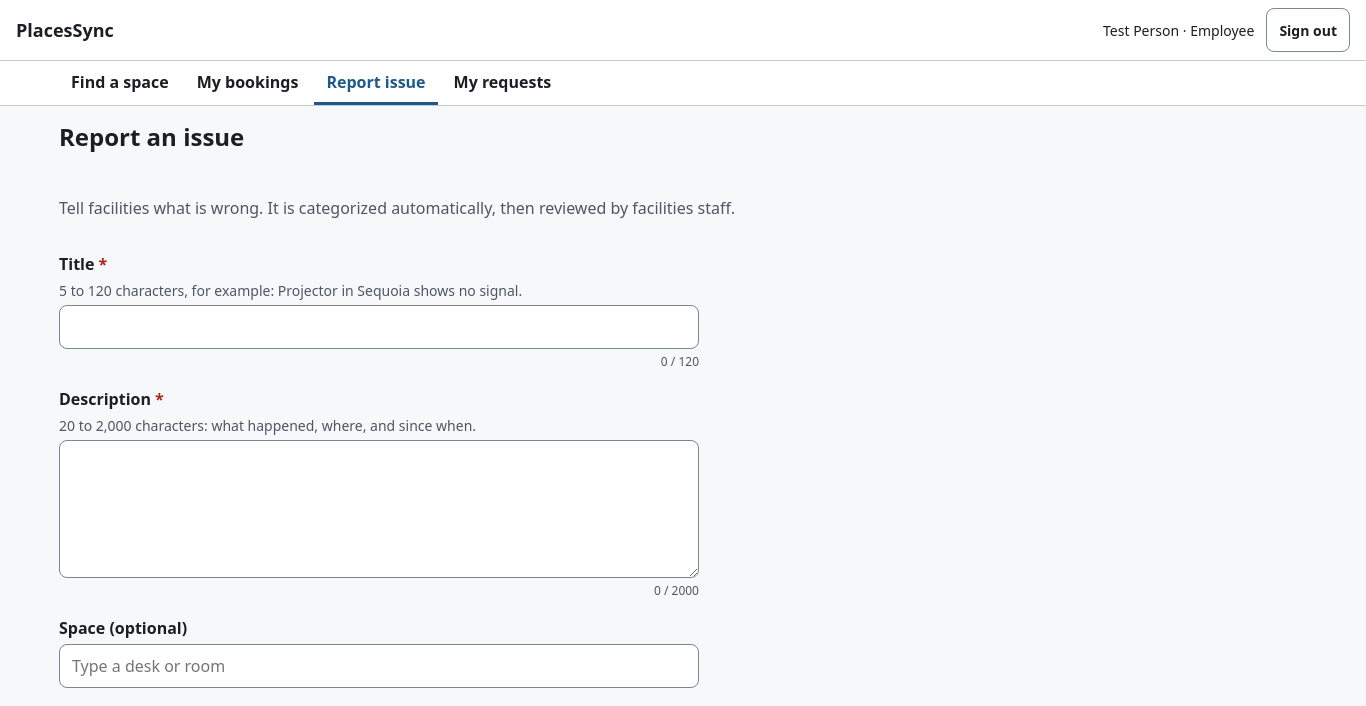
Scenario: Report an issue (SPEC 14.1) › validates on the client and moves focus to an error summary
Type "abc" into the field labelled "Title*" at (379, 327), box x1=59 y1=305 x2=699 y2=349
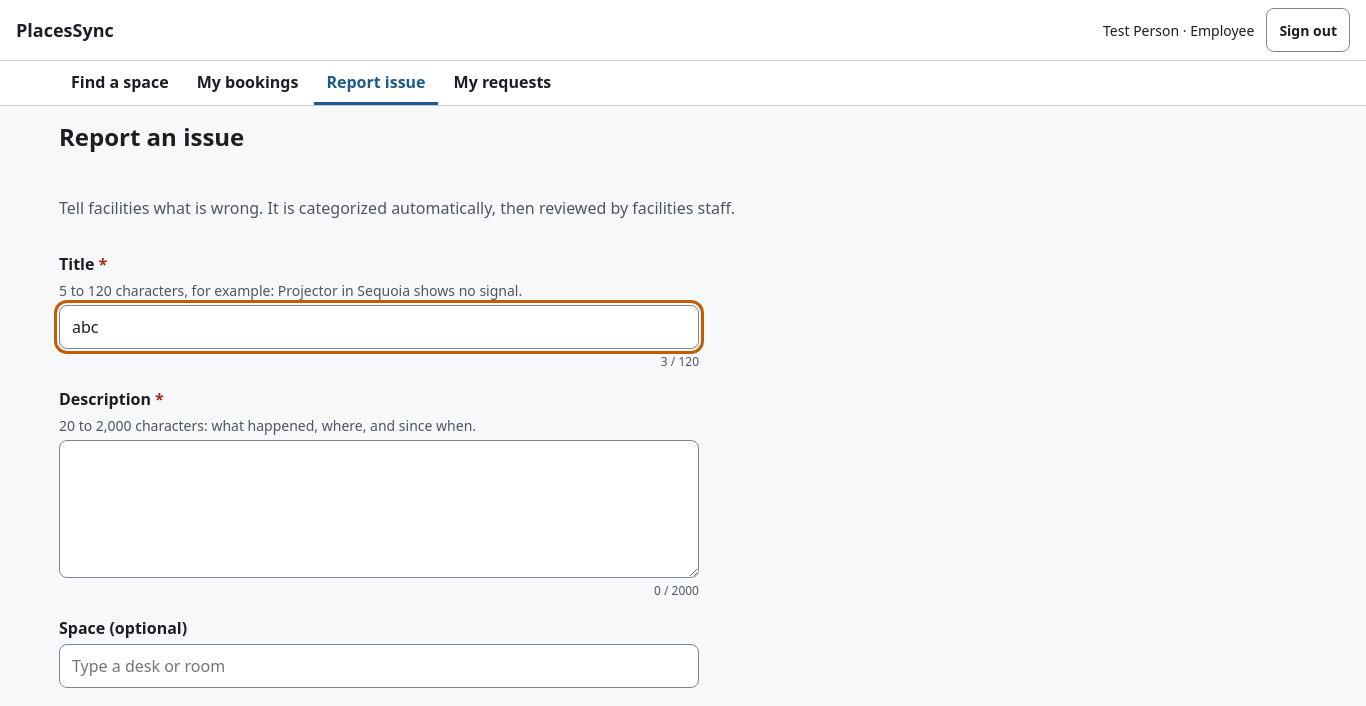
Type "too short" into the text box labelled "Description*" at (379, 509), box x1=59 y1=440 x2=699 y2=578
(page scrolled)
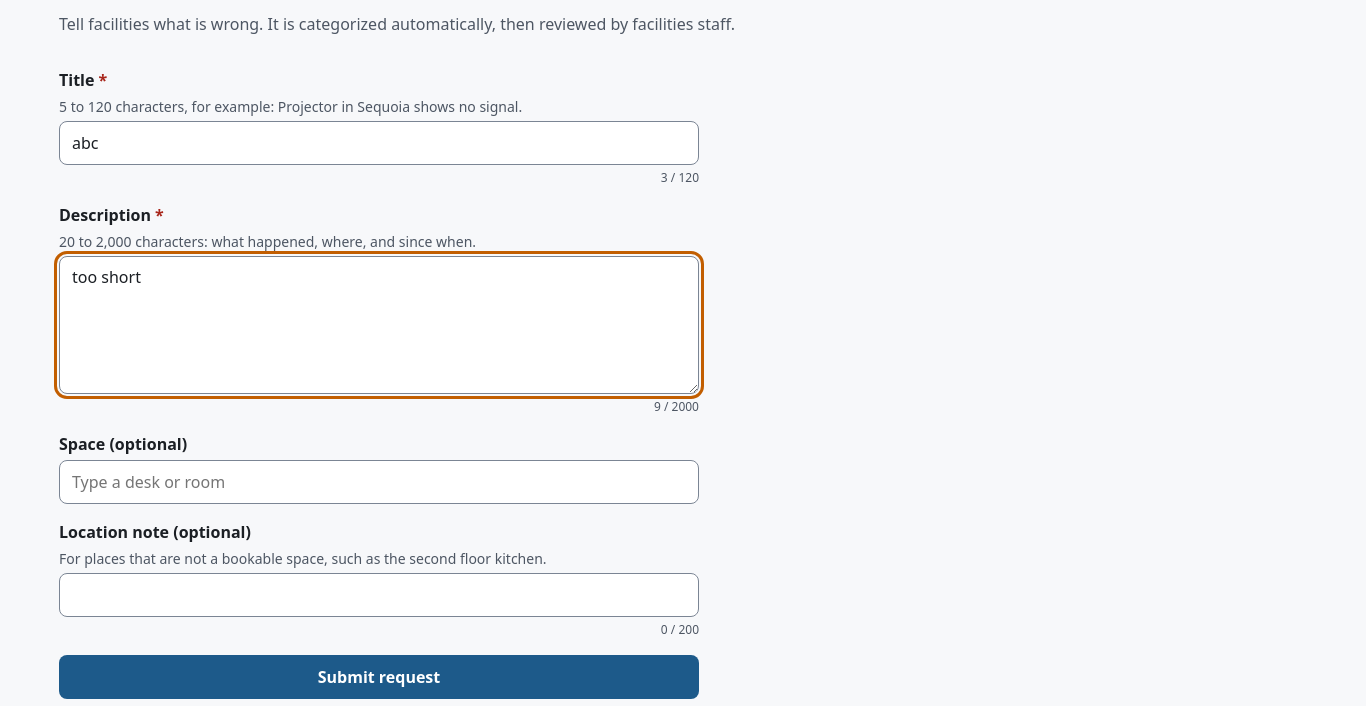
Click the button "Submit request" at (379, 677), box x1=59 y1=655 x2=699 y2=699
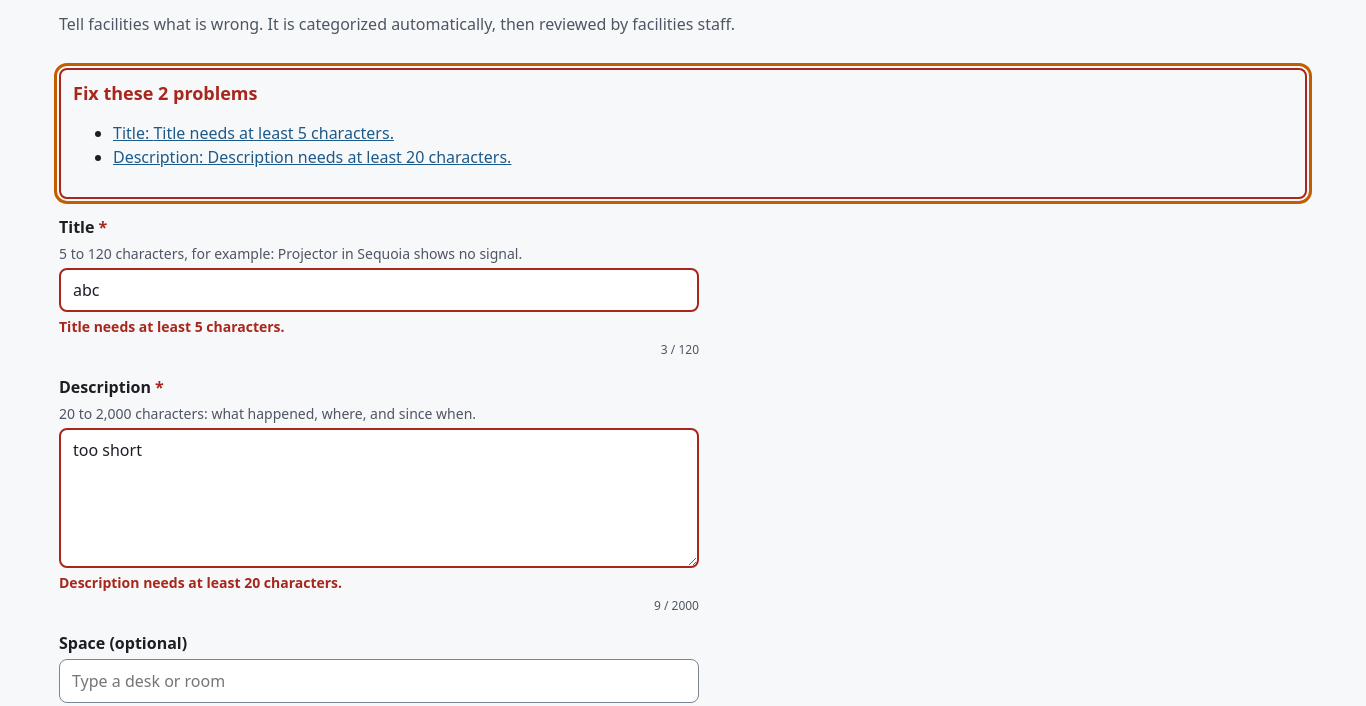
Expected: the message shows "Fix these 2 problems", x1=59 y1=68 x2=1307 y2=198
